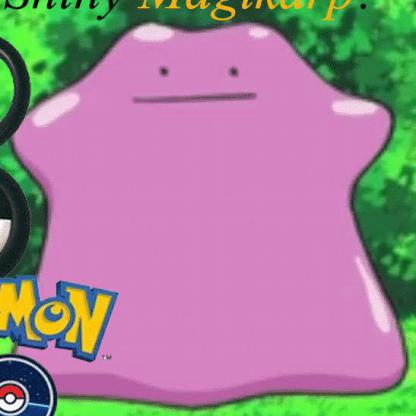Ditto: (1, 28, 416, 416)
